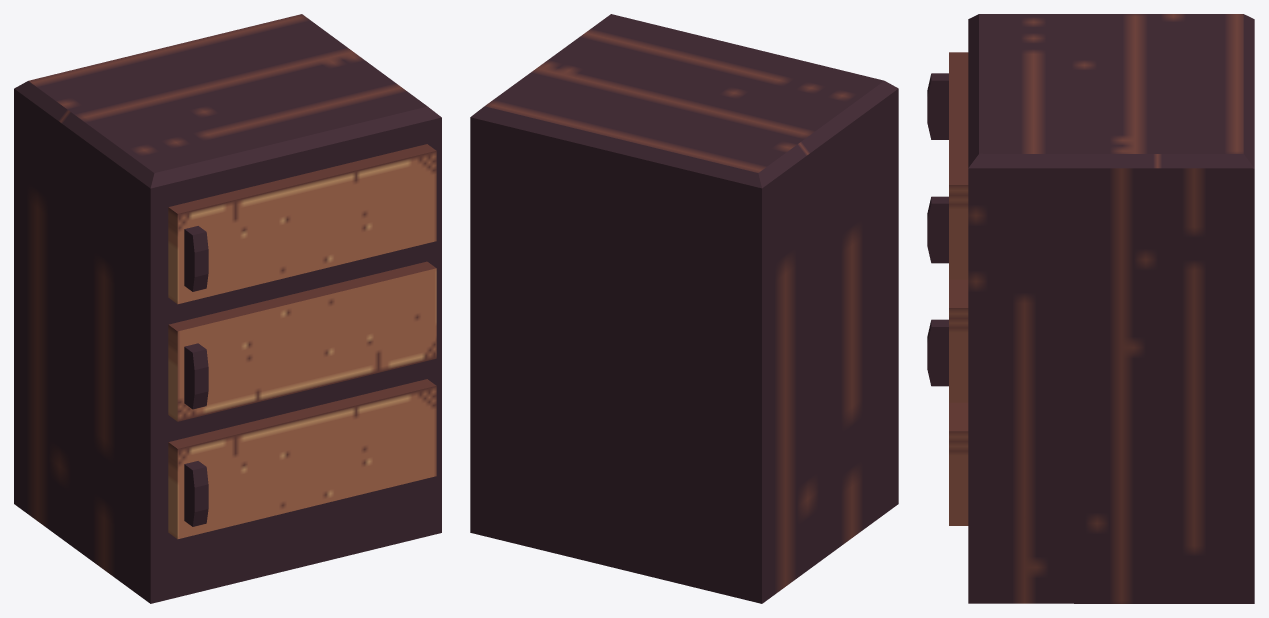
File: GabineteDeQuarto.fbx
The picture shows the model from 3 angles, left to right: view 1: azimuth 30°, elevation 25°; view 2: azimuth 150°, elevation 25°; view 3: azimuth 270°, elevation 25°; orthographic projection. The views are drawn at different scales.
Parts seen in each view (by area): view 1: GabineteDeQuarto; view 2: GabineteDeQuarto; view 3: GabineteDeQuarto.
Part boxes in pixels (x1=…): GabineteDeQuarto: x1=14, y1=14, x2=441, y2=603; GabineteDeQuarto: x1=470, y1=14, x2=898, y2=603; GabineteDeQuarto: x1=927, y1=14, x2=1254, y2=603.
Bounding box in the file's own units: 106 × 98.44 × 148.
